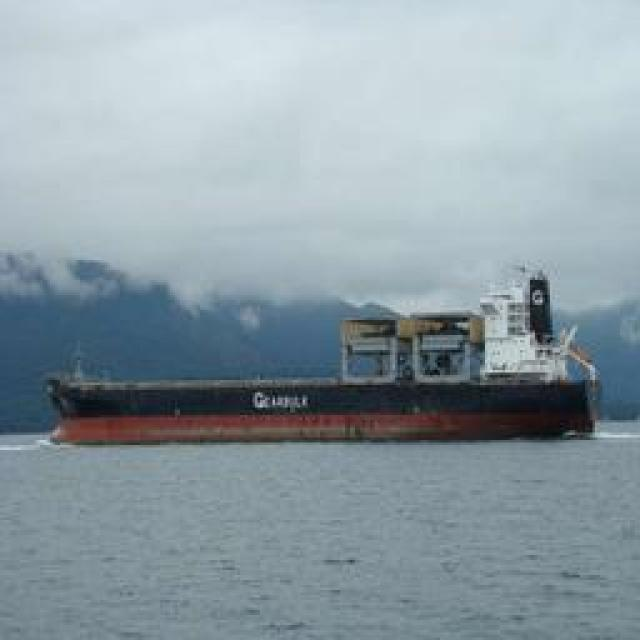CIV_Ship: (52, 332, 590, 446)
